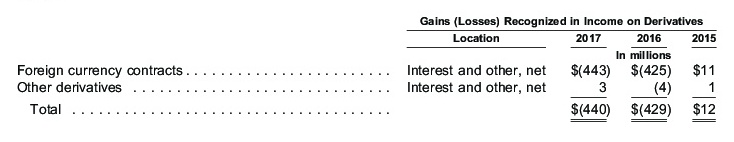table: (0, 0, 734, 142)
